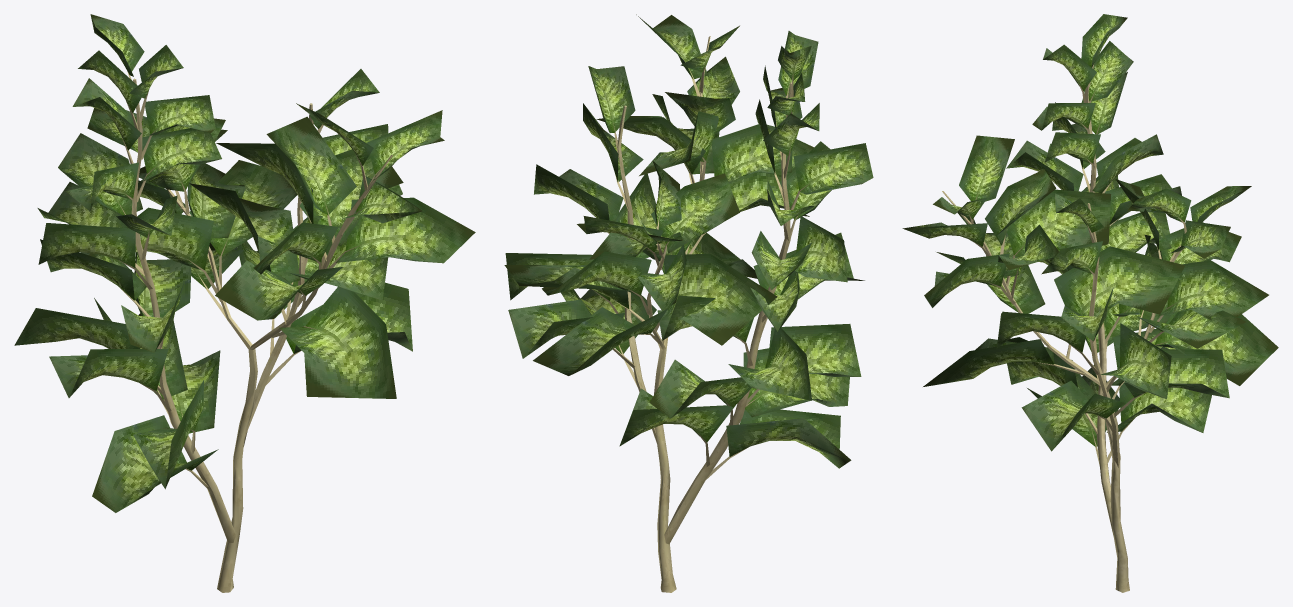
Rendered from tropical-plant.lod2.glb.
3 views of the same model, side by side, from view 1: azimuth 30°, elevation 25°; view 2: azimuth 150°, elevation 25°; view 3: azimuth 270°, elevation 25° (orthographic). The views are drawn at different scales.
Visible parts, largest first — view 1: Tree_1_Tree_1Mat_0, Tree_0_Tree_0Mat_0; view 2: Tree_1_Tree_1Mat_0, Tree_0_Tree_0Mat_0; view 3: Tree_1_Tree_1Mat_0, Tree_0_Tree_0Mat_0.
Part boxes in pixels (x1,y1,x2,y2): Tree_1_Tree_1Mat_0: (14, 14, 475, 512); Tree_0_Tree_0Mat_0: (118, 72, 392, 592); Tree_1_Tree_1Mat_0: (504, 14, 873, 468); Tree_0_Tree_0Mat_0: (592, 36, 809, 592); Tree_1_Tree_1Mat_0: (902, 14, 1278, 451); Tree_0_Tree_0Mat_0: (942, 64, 1186, 592).
Bounding box in the file's own units: 0.8451 × 1.4 × 0.9246.
Materials: 2 (2 with a texture image).
